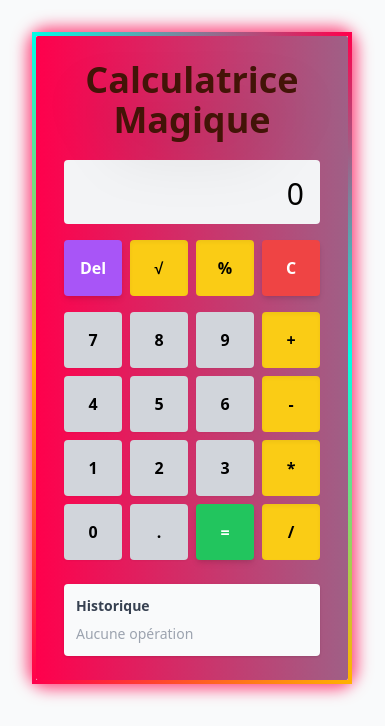
Test: Calculatrice › affiche le bon résultat après une addition simple
The width and height of the screenshot is (385, 726).
Simule les clics successifs sur les boutons
Click the button "1" at (93, 468), box x1=64 y1=440 x2=122 y2=496
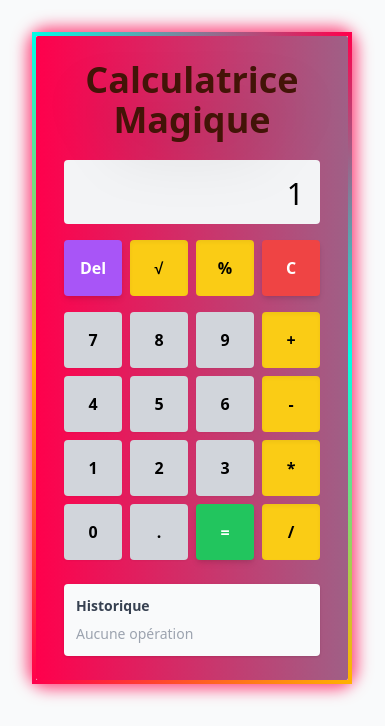
Click the button "+" at (291, 340), box x1=262 y1=312 x2=320 y2=368
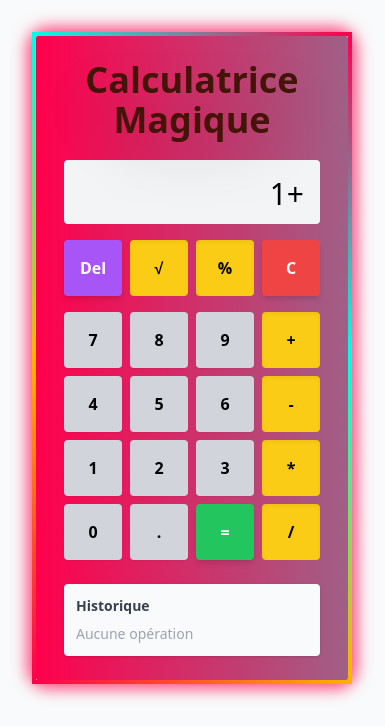
Click the button "2" at (159, 468), box x1=130 y1=440 x2=188 y2=496
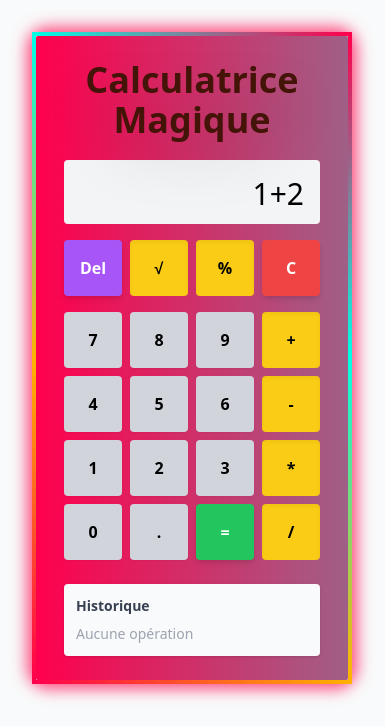
Click the button "=" at (225, 532), box x1=196 y1=504 x2=254 y2=560
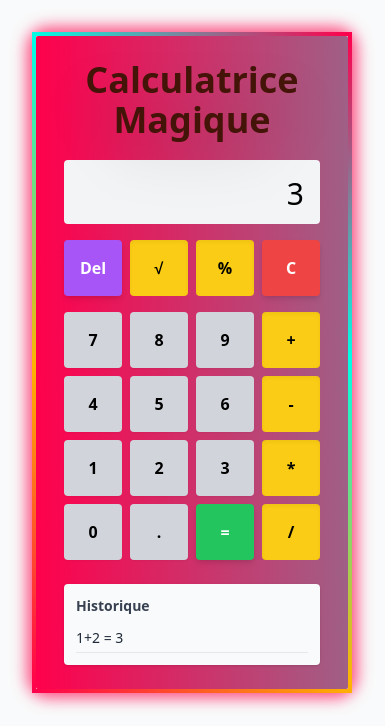
Expected: the text with test id "display" reads "3", x1=287 y1=173 x2=304 y2=214
